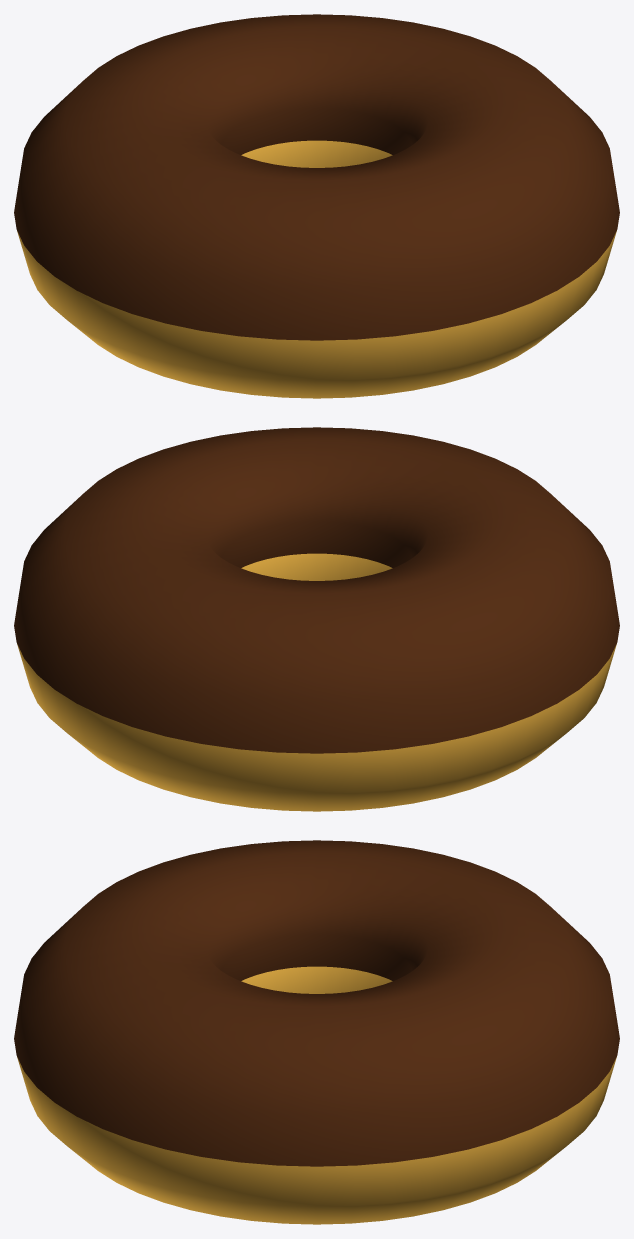
The model's file is browndonut.obj.
3 renders of one model, top to bottom at view 1: azimuth 30°, elevation 25°; view 2: azimuth 150°, elevation 25°; view 3: azimuth 270°, elevation 25°, orthographic.
Parts seen in each view (by area): view 1: Donut; view 2: Donut; view 3: Donut.
Boxes of the visible parts, <box> form: Donut: <box>14,14,619,398</box>; Donut: <box>14,427,619,811</box>; Donut: <box>14,840,619,1224</box>.
Size of the model in its own units: 1.5 by 0.5469 by 1.5.
Materials: 1 (1 with a texture image).
